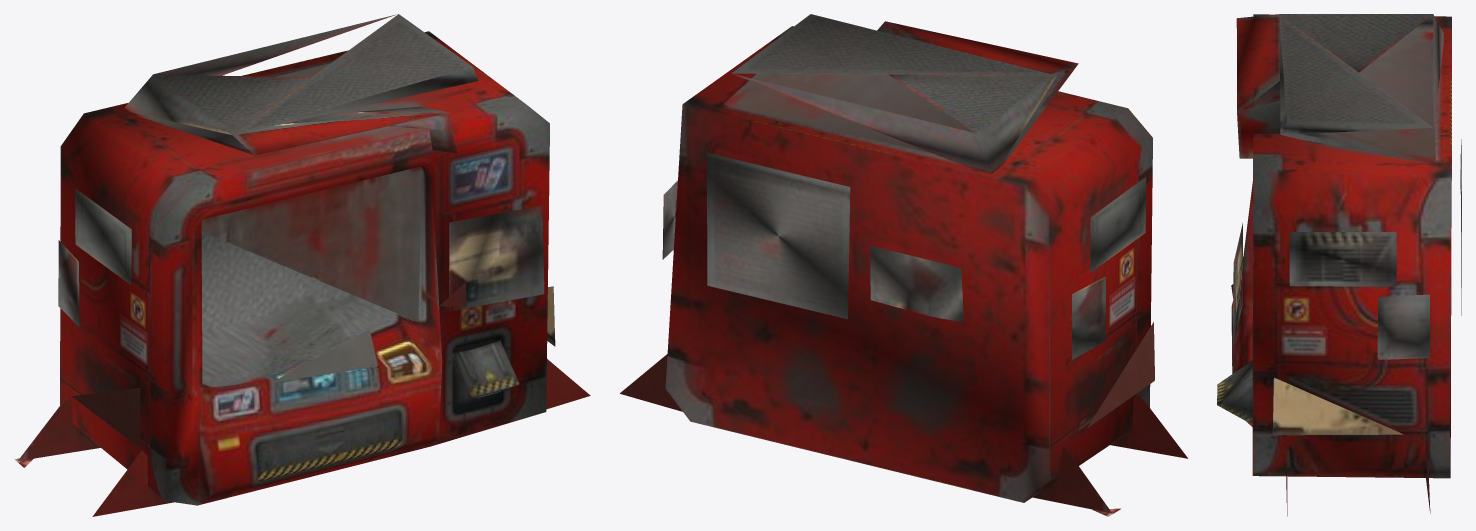
The model's file is vending_machine.glb.
3 renders of one model, left to right at view 1: azimuth 30°, elevation 25°; view 2: azimuth 150°, elevation 25°; view 3: azimuth 270°, elevation 25°, orthographic. The views are drawn at different scales.
Bounding box in the file's own units: 0.9965 × 0.6934 × 0.4449.
1 material, 1 textured.
